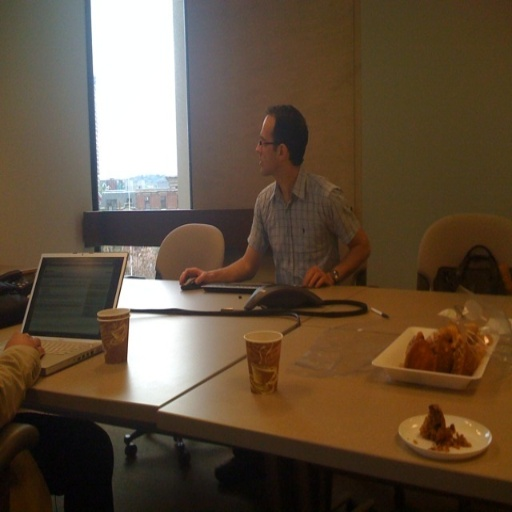hand: (166, 261, 217, 299), (2, 329, 47, 358), (300, 262, 335, 293)
